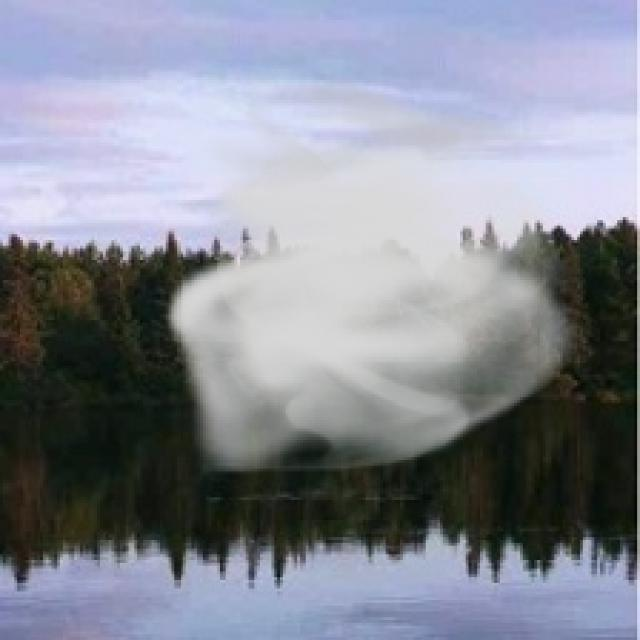smoke: (163, 66, 588, 486)
